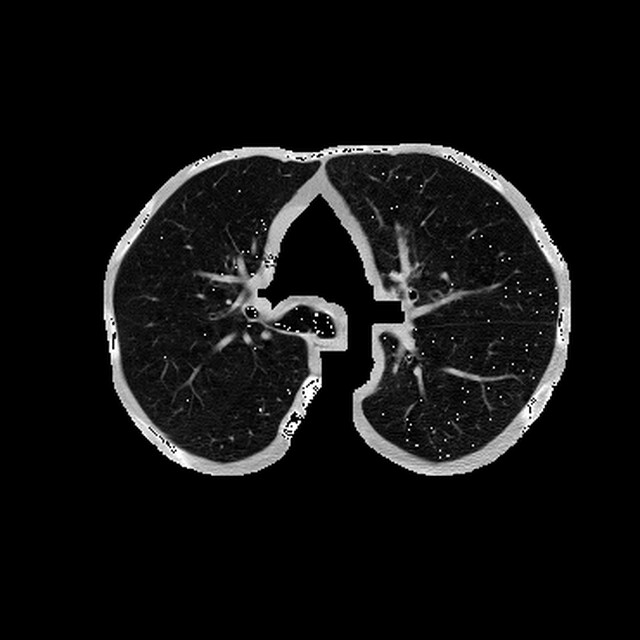PN: (259, 329, 273, 342)
